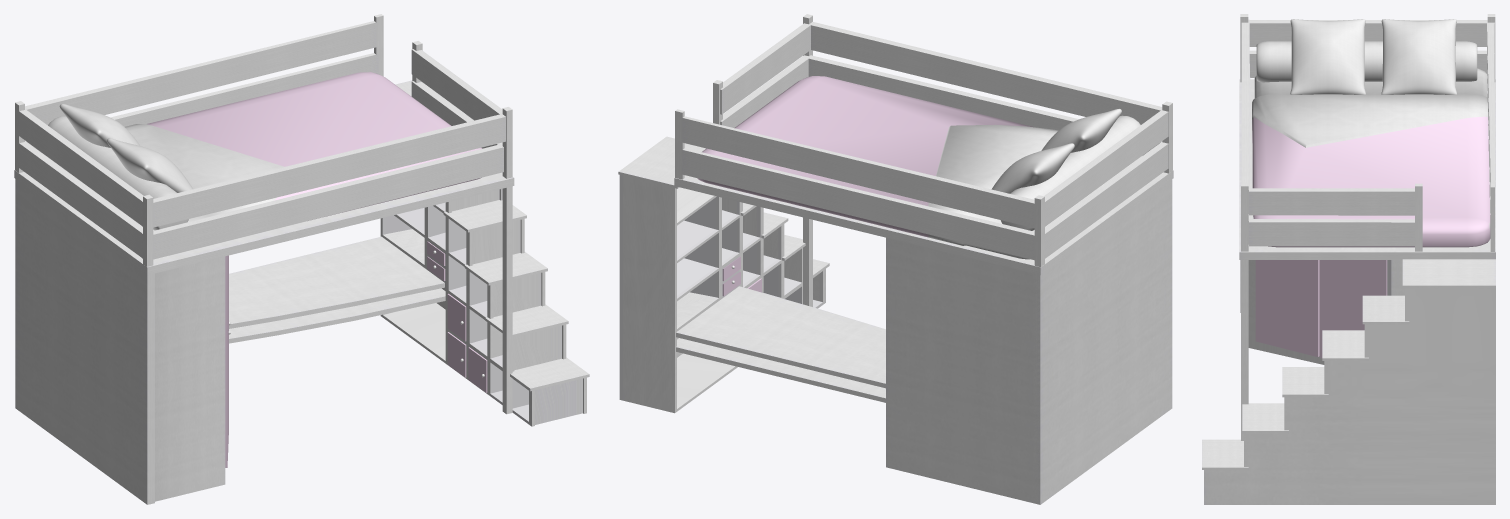
Rendered from litMezzanine2.obj.
3 renders of one model, left to right at view 1: azimuth 30°, elevation 25°; view 2: azimuth 150°, elevation 25°; view 3: azimuth 270°, elevation 25°, orthographic. The views are drawn at different scales.
Visible parts, largest first — view 1: 11_11, 12_12, 3_3, 16_16, 1_1, 7_7, 8_8, 2_2, 17_17, 9_9, 15_15, 19_19 (+6 smaller); view 2: 11_11, 12_12, 16_16, 1_1, 19_19, 17_17, 8_8, 9_9, 2_2, 15_15, 7_7, 10_10 (+4 smaller); view 3: 12_12, 16_16, 20_20, 15_15, 10_10, 2_2, 4_4, 5_5, 18_18, 9_9, 8_8, 3_3 (+5 smaller).
Part boxes in pixels (left/top/right/bottom): 11_11: left=14, top=170, right=154, bottom=504; 12_12: left=380, top=80, right=589, bottom=426; 3_3: left=155, top=256, right=225, bottom=501; 16_16: left=147, top=72, right=481, bottom=216; 1_1: left=229, top=236, right=444, bottom=328; 7_7: left=15, top=101, right=503, bottom=259; 8_8: left=142, top=114, right=505, bottom=227; 2_2: left=15, top=107, right=514, bottom=414; 17_17: left=25, top=21, right=376, bottom=125; 9_9: left=19, top=109, right=143, bottom=257; 15_15: left=41, top=124, right=284, bottom=230; 19_19: left=25, top=53, right=378, bottom=151; 11_11: left=886, top=101, right=1173, bottom=504; 12_12: left=618, top=136, right=829, bottom=413; 16_16: left=697, top=76, right=1033, bottom=237; 1_1: left=676, top=286, right=885, bottom=388; 19_19: left=682, top=148, right=1034, bottom=259; 17_17: left=682, top=116, right=1034, bottom=227; 8_8: left=807, top=22, right=1168, bottom=136; 9_9: left=1034, top=110, right=1167, bottom=260; 2_2: left=674, top=14, right=1168, bottom=306; 15_15: left=928, top=124, right=1141, bottom=259; 7_7: left=805, top=55, right=1168, bottom=266; 10_10: left=720, top=23, right=810, bottom=127; 12_12: left=1202, top=259, right=1495, bottom=504; 16_16: left=1252, top=116, right=1490, bottom=247; 20_20: left=1290, top=19, right=1457, bottom=94; 15_15: left=1252, top=68, right=1490, bottom=228; 10_10: left=1249, top=188, right=1414, bottom=246; 2_2: left=1239, top=79, right=1495, bottom=440; 4_4: left=1255, top=260, right=1319, bottom=356; 5_5: left=1319, top=260, right=1387, bottom=357; 18_18: left=1256, top=41, right=1477, bottom=82; 9_9: left=1248, top=20, right=1494, bottom=77; 8_8: left=1241, top=19, right=1249, bottom=213; 3_3: left=1248, top=260, right=1391, bottom=364.
Size of the model in its own units: 296 by 210 by 185.
Materials: 4 (4 with a texture image).
